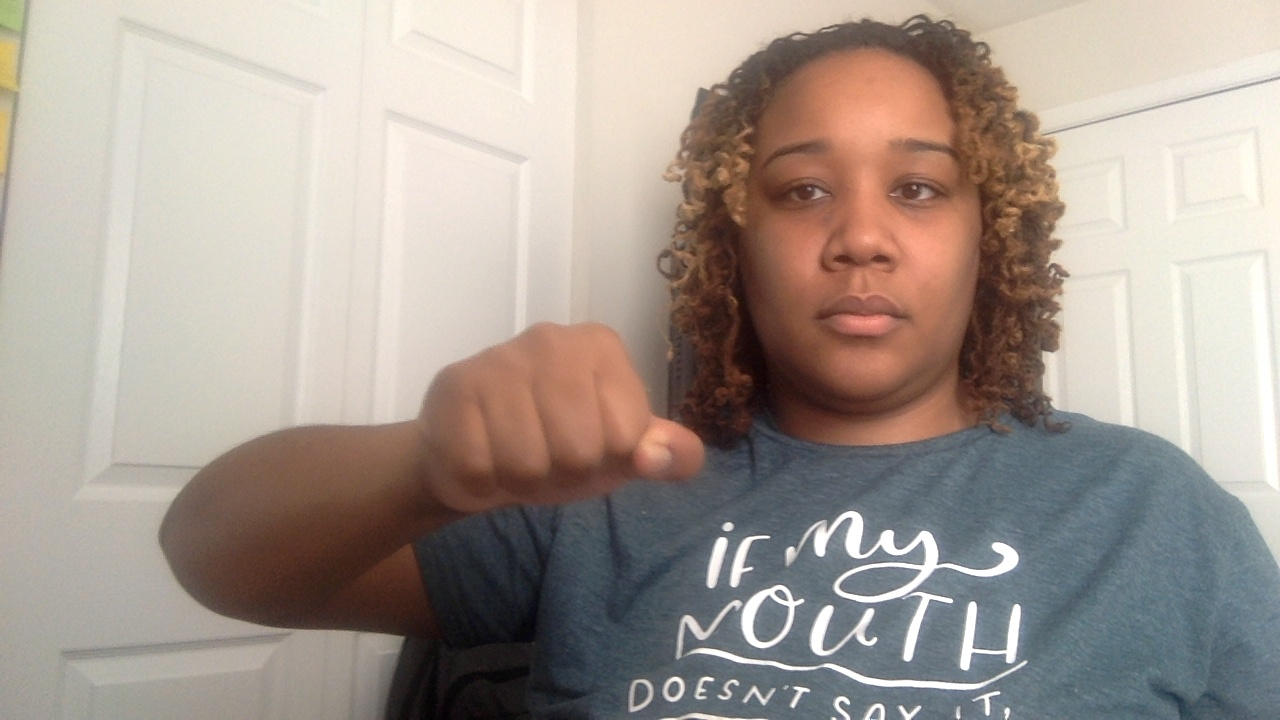yes: (406, 300, 730, 544)
